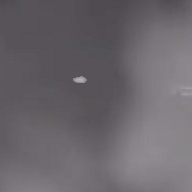Target: (73, 76, 87, 83)
